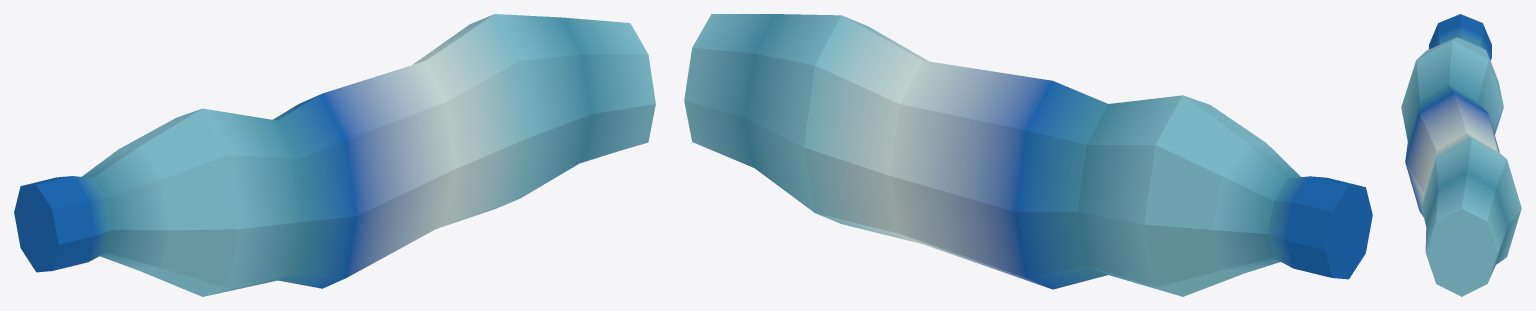
The model's file is CrushedWaterBottle.glb.
3 views of the same model, side by side, from view 1: azimuth 30°, elevation 25°; view 2: azimuth 150°, elevation 25°; view 3: azimuth 270°, elevation 25° (orthographic). The views are drawn at different scales.
Visible parts, largest first — view 1: CrushedWaterBottle; view 2: CrushedWaterBottle; view 3: CrushedWaterBottle.
Part boxes in pixels (<box>): CrushedWaterBottle: <box>14,14,655,296</box>; CrushedWaterBottle: <box>684,14,1372,296</box>; CrushedWaterBottle: <box>1401,14,1521,296</box>.
Bounding box in the file's own units: 0.74 × 0.262 × 0.183.
